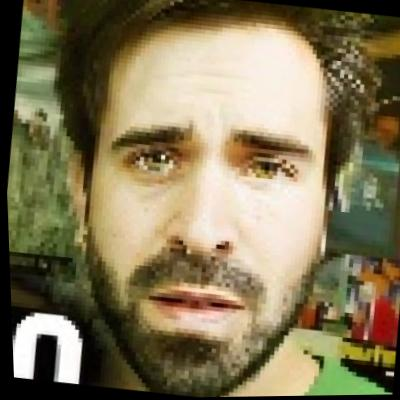sad: (60, 25, 333, 384)
